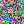dog: (1, 1, 22, 22)
